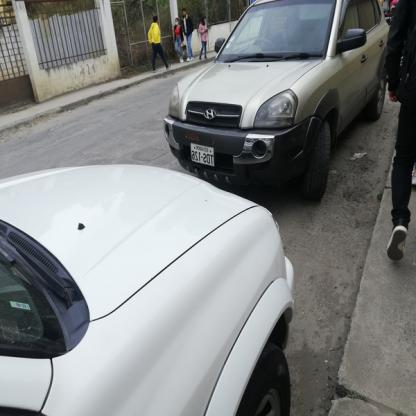Placa: (186, 142, 214, 169)
